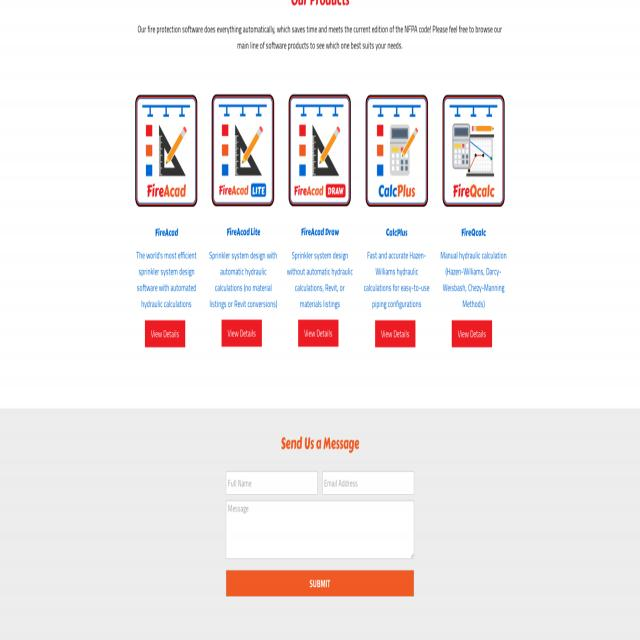button: (208, 89, 278, 213), (362, 89, 432, 213), (132, 89, 201, 213), (439, 89, 508, 213), (286, 89, 354, 213), (226, 570, 414, 598), (145, 320, 185, 347), (222, 320, 262, 347), (298, 320, 338, 347), (375, 320, 415, 347), (452, 320, 492, 347)
field: (225, 502, 414, 558), (226, 470, 318, 496), (322, 470, 414, 496)
